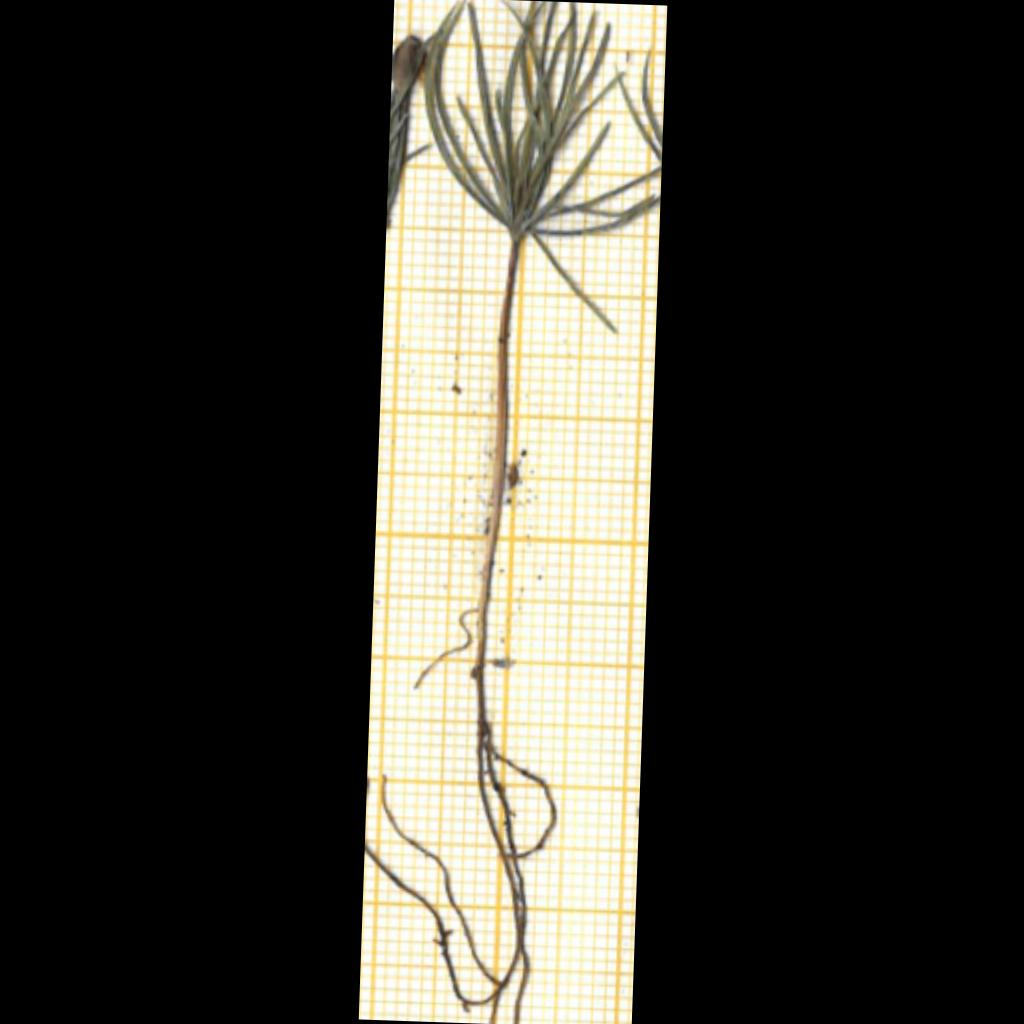flowerPinus: (424, 0, 657, 244)
rootPinus: (365, 673, 556, 1023)
stemPinus: (478, 242, 520, 666)
